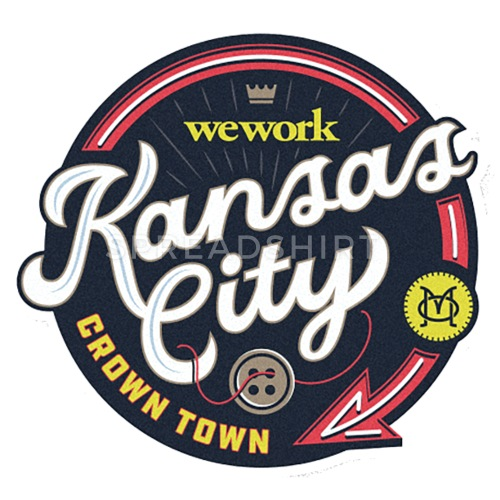wework: (181, 105, 342, 146)
